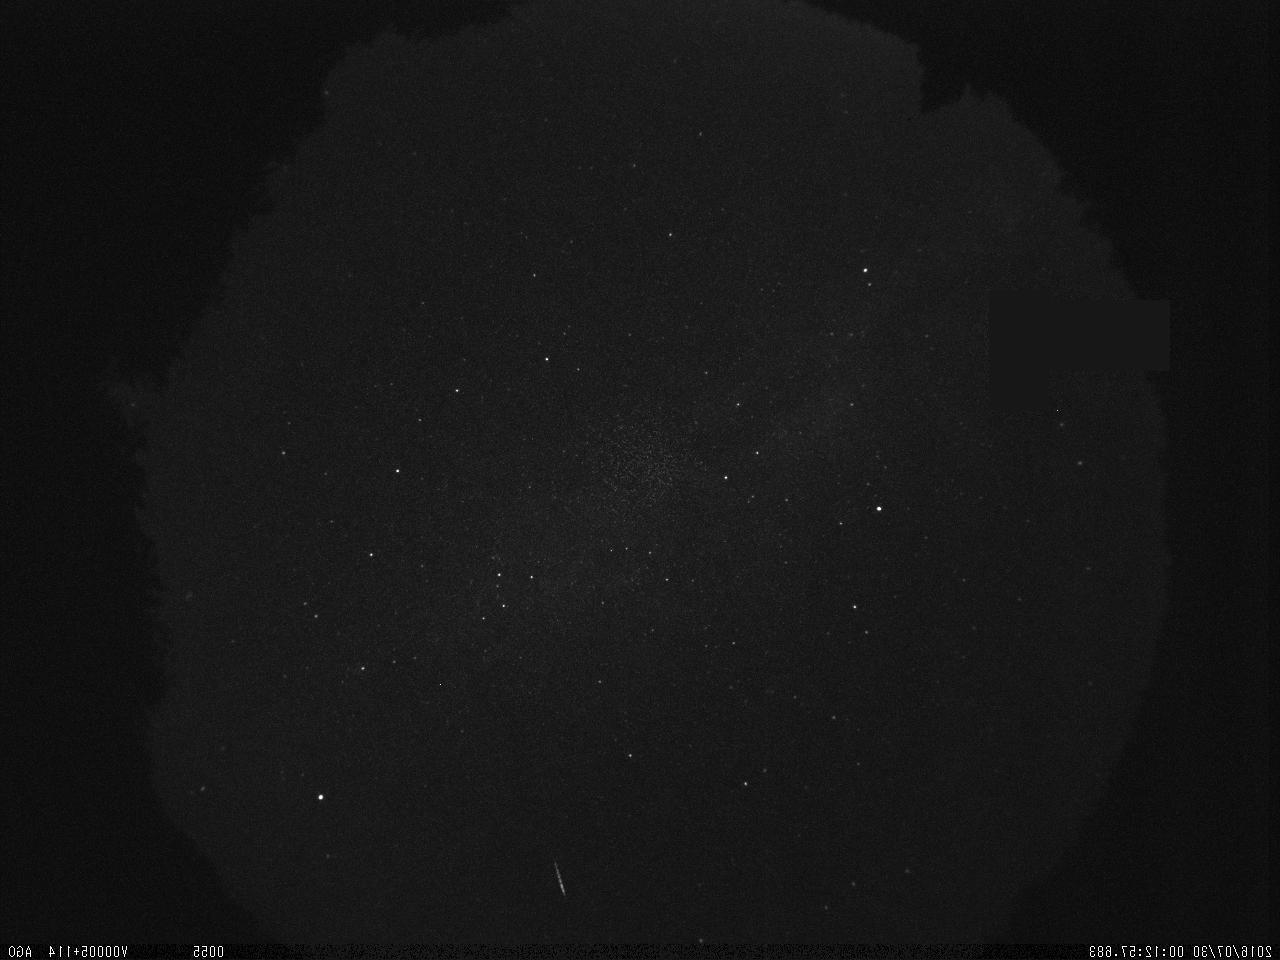meteor: (544, 849, 573, 901)
